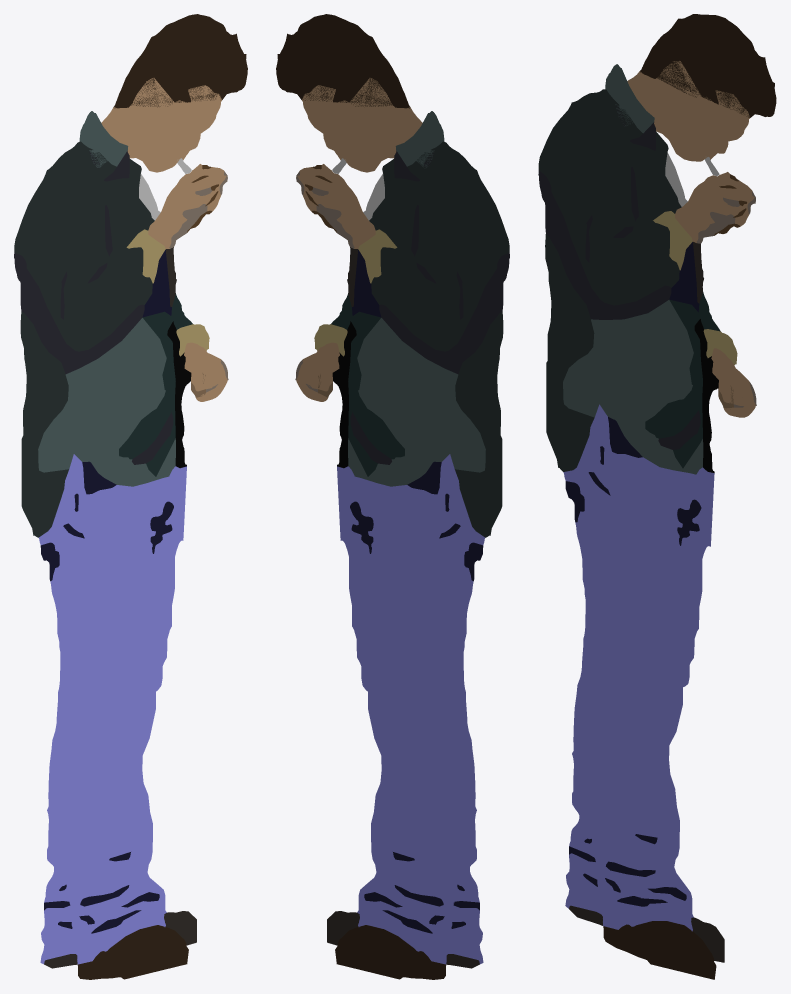
The model's file is guy2.obj.
3 views of the same model, side by side, from view 1: azimuth 30°, elevation 25°; view 2: azimuth 150°, elevation 25°; view 3: azimuth 330°, elevation 25° (orthographic).
Parts seen in each view (by area): view 1: Mesh1 cf1 Model; view 2: Mesh1 cf1 Model; view 3: Mesh1 cf1 Model.
Boxes of the visible parts, bbox=[...] form: Mesh1 cf1 Model: bbox=[14, 14, 247, 979]; Mesh1 cf1 Model: bbox=[276, 14, 509, 979]; Mesh1 cf1 Model: bbox=[538, 14, 776, 979].
Size of the model in its own units: 18.19 by 70.49 by 0.
